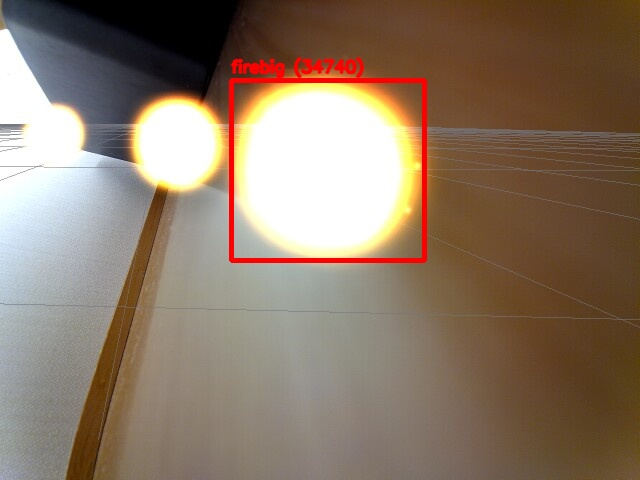firebig: (231, 80, 424, 260)
